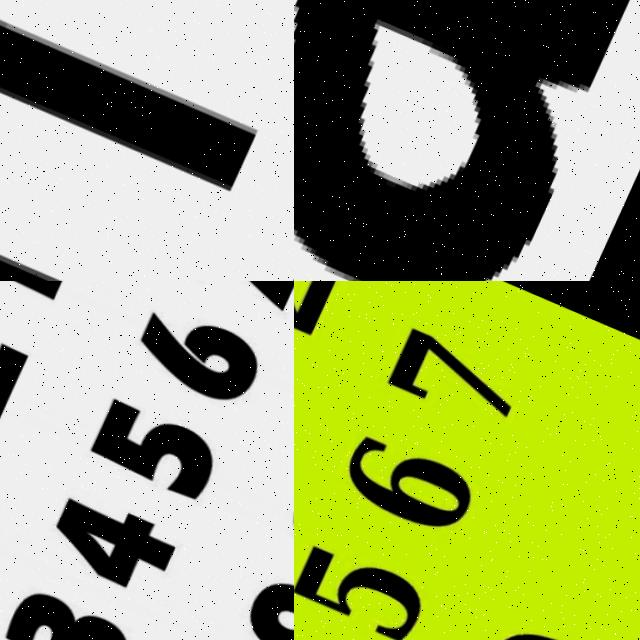0: (457, 593, 640, 640)
2: (294, 281, 353, 346)
3: (0, 565, 163, 640)
4: (30, 477, 211, 613)
5: (75, 382, 250, 510), (294, 526, 445, 640)
6: (300, 404, 503, 550), (112, 285, 286, 415)
7: (353, 303, 546, 438), (160, 281, 294, 317)
9: (241, 563, 294, 640)
A: (294, 0, 640, 281)
M: (0, 0, 294, 281)
